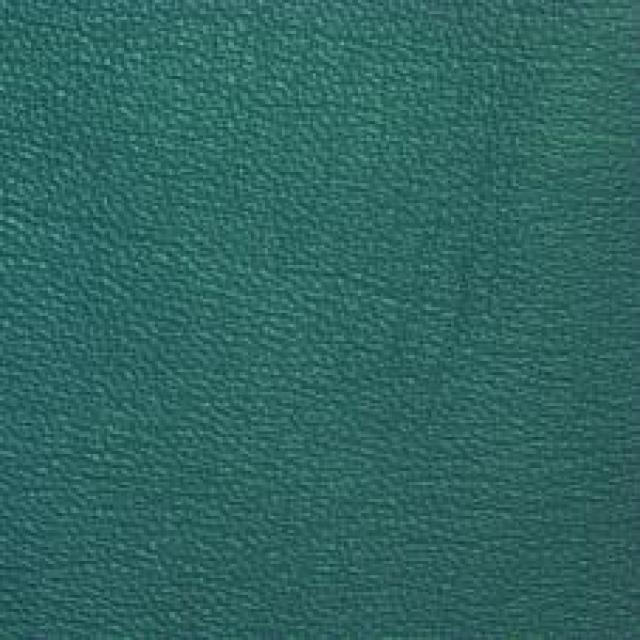Growth Marks: (380, 94, 541, 382), (32, 199, 195, 282)
